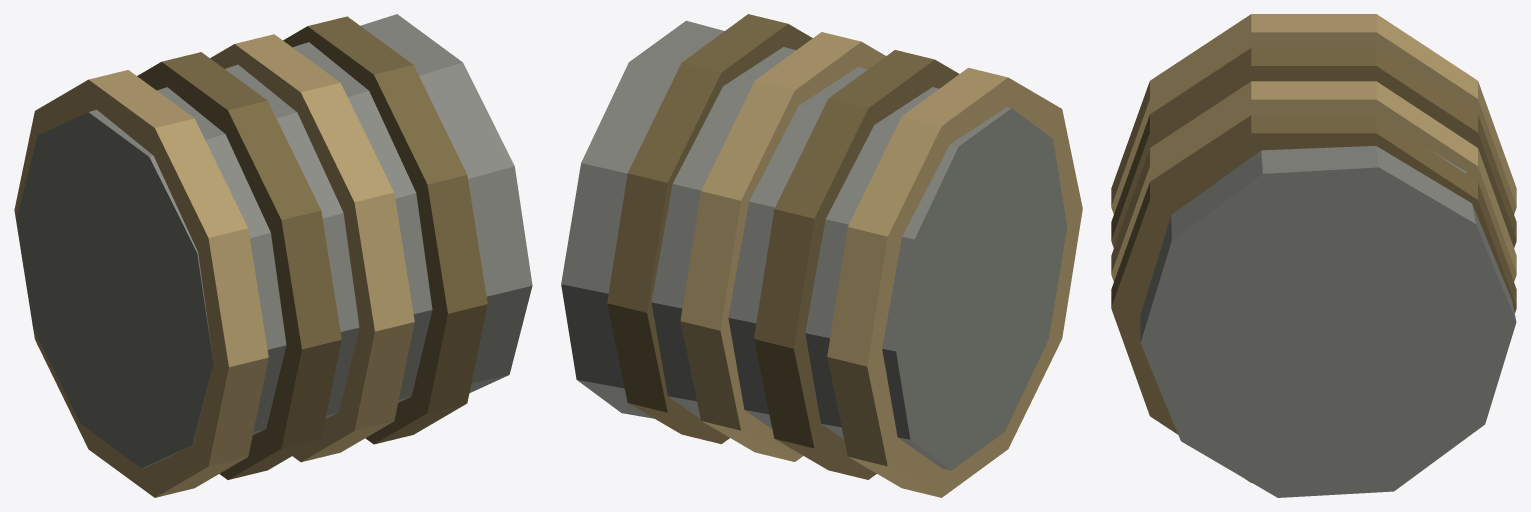
Rendered from old_stackstone_bracer_r.glb.
3 views of the same model, side by side, from view 1: azimuth 30°, elevation 25°; view 2: azimuth 150°, elevation 25°; view 3: azimuth 270°, elevation 25° (orthographic). The views are drawn at different scales.
Parts seen in each view (by area): view 1: old_stackstone_bracer_r; view 2: old_stackstone_bracer_r; view 3: old_stackstone_bracer_r.
Part boxes in pixels (bbox=[...]): old_stackstone_bracer_r: bbox=[14, 14, 532, 497]; old_stackstone_bracer_r: bbox=[561, 14, 1082, 497]; old_stackstone_bracer_r: bbox=[1111, 14, 1516, 497].
Bounding box in the file's own units: 0.2504 × 0.2663 × 0.28.
